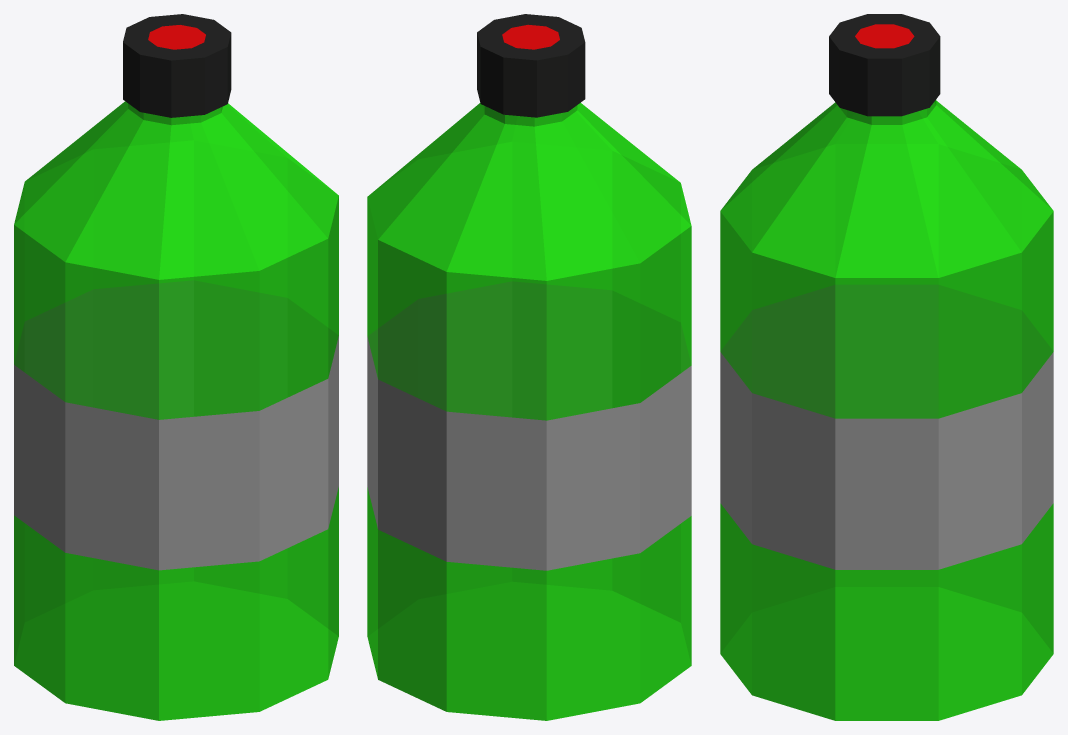
The model's file is water bottlet2.fbx.
The picture shows the model from 3 angles, left to right: view 1: azimuth 30°, elevation 25°; view 2: azimuth 150°, elevation 25°; view 3: azimuth 270°, elevation 25°; orthographic projection.
Parts seen in each view (by area): view 1: Cylinder.001; view 2: Cylinder.001; view 3: Cylinder.001.
Part boxes in pixels (x1,y1,x2,y2): Cylinder.001: [14, 14, 338, 720]; Cylinder.001: [367, 14, 691, 720]; Cylinder.001: [720, 14, 1053, 720].
Bounding box in the file's own units: 190 × 408 × 200.
